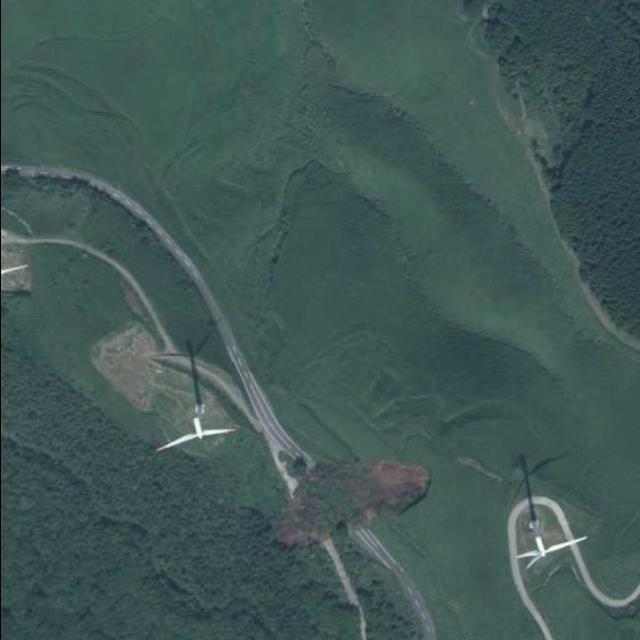landslide: (274, 461, 430, 548)
